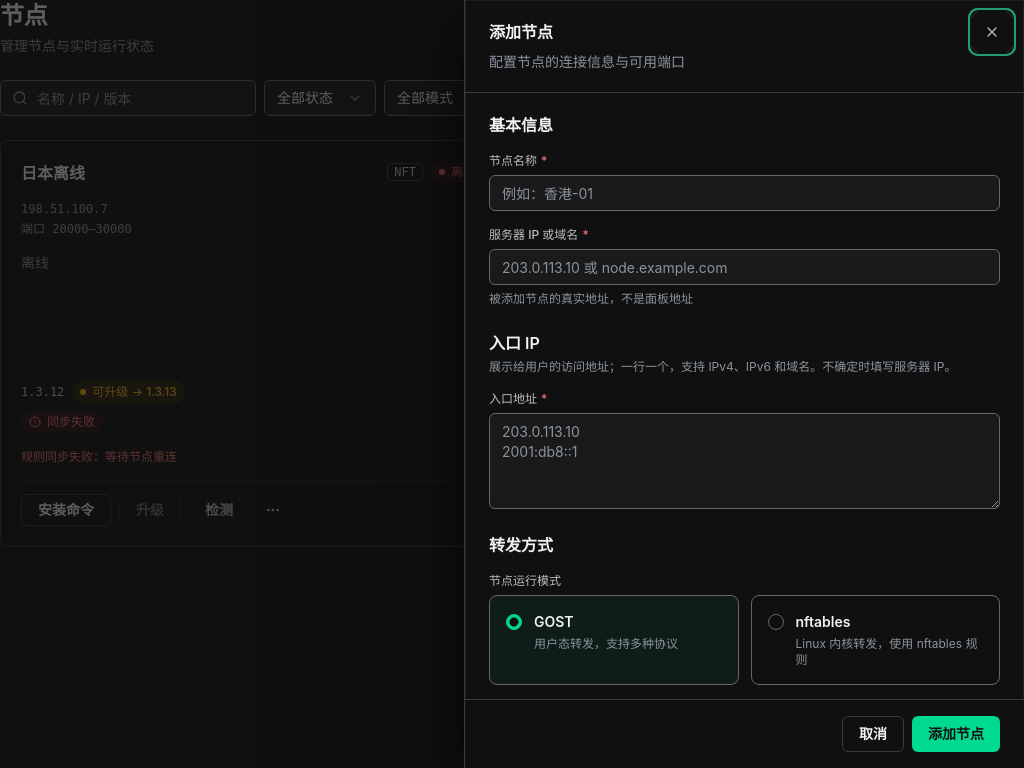
Test: 节点页面的真实路由和操作 › create=1只消费一次，添加表单不显示协议屏蔽，编辑离线显示但禁用
Expected: the heading "节点" is shown, [0,1,47,30]
Expected: the dialog "添加节点" is shown, [464,0,1023,767]
Click the button "取消" at (873, 734), box [842,716,904,752]
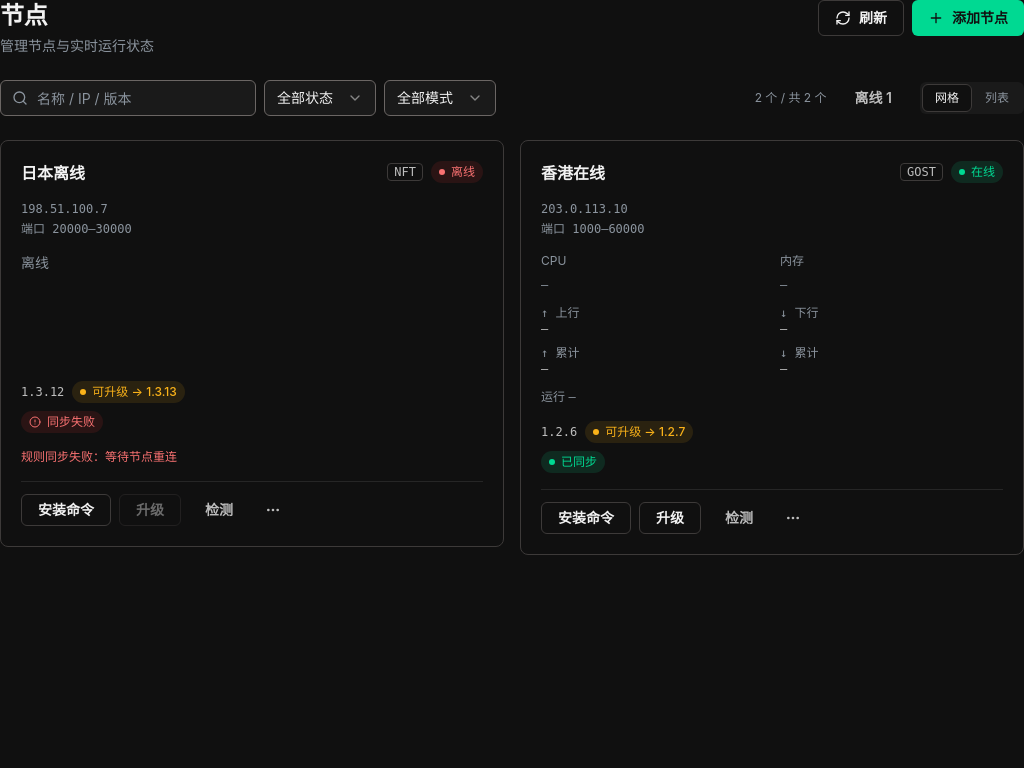
Expected: the element named "节点 香港在线" is shown, [520,140,1023,555]
Press the mouse on the button named "节点操作：日本离线" at (273, 510), box [257,494,289,526]
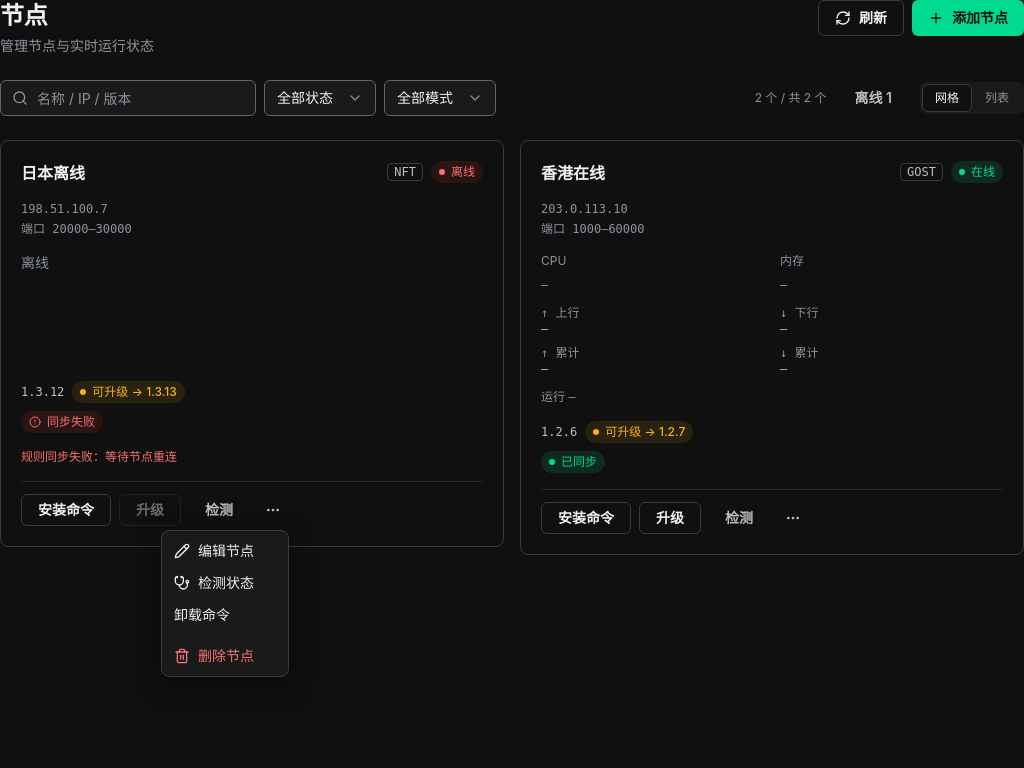
Click the menu item "编辑节点" at (214, 550), box [174,542,254,559]
(page scrolled)
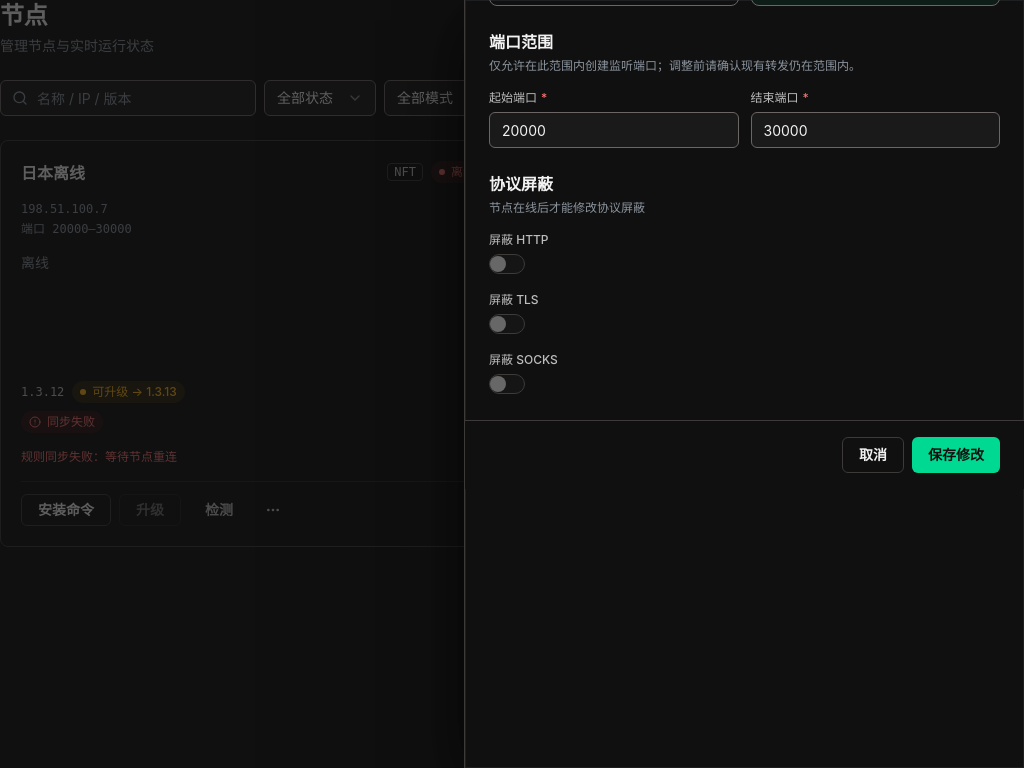
Expected: the text "节点在线后才能修改协议屏蔽" is shown, [489,200,645,215]
Expected: the switch below "屏蔽 HTTP" is disabled, [489,254,525,274]
Expected: the switch below "屏蔽 TLS" is disabled, [489,314,525,334]
